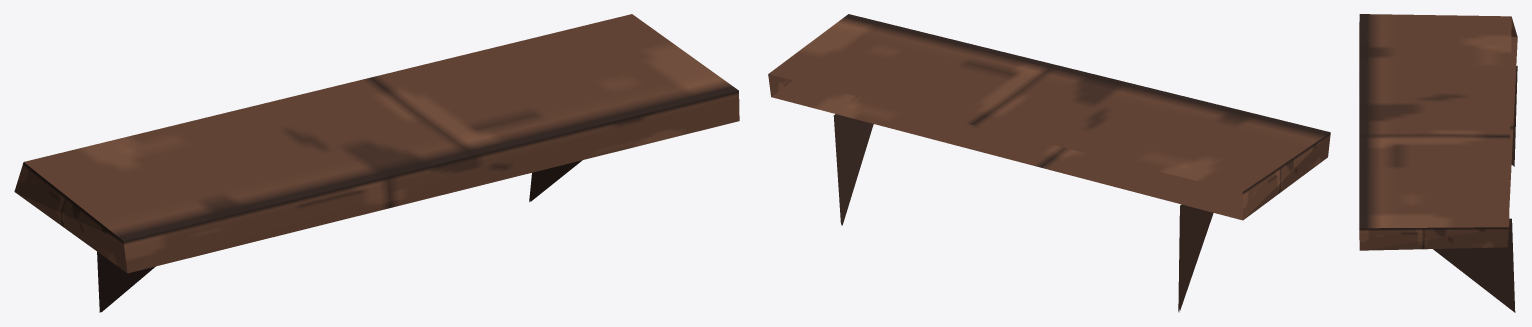
The model's file is SM_WallShelf.fbx.
3 views of the same model, side by side, from view 1: azimuth 30°, elevation 25°; view 2: azimuth 150°, elevation 25°; view 3: azimuth 270°, elevation 25° (orthographic). The views are drawn at different scales.
Parts seen in each view (by area): view 1: WallShelf_Visual; view 2: WallShelf_Visual; view 3: WallShelf_Visual.
Part boxes in pixels (left/top/right/bottom): WallShelf_Visual: left=14, top=14, right=739, bottom=312; WallShelf_Visual: left=768, top=14, right=1330, bottom=312; WallShelf_Visual: left=1359, top=14, right=1517, bottom=312.
Size of the model in its own units: 0.6105 by 0.1637 by 0.1902.
